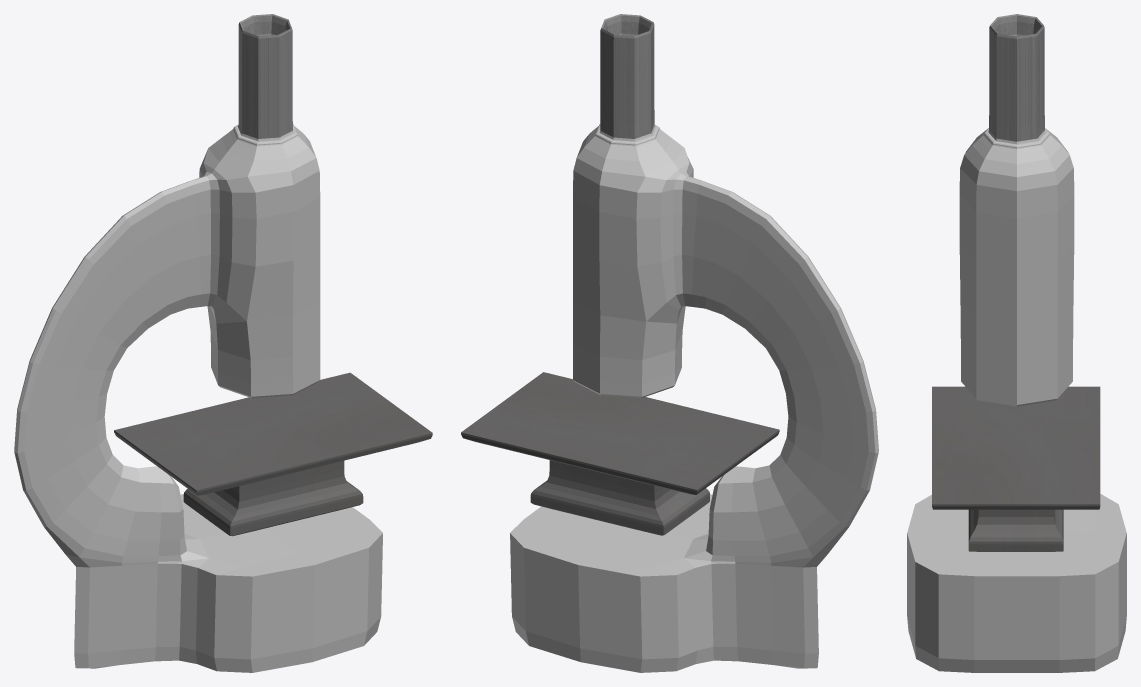
Rendered from microscope.fbx.
The picture shows the model from 3 angles, left to right: view 1: azimuth 30°, elevation 25°; view 2: azimuth 150°, elevation 25°; view 3: azimuth 270°, elevation 25°; orthographic projection. The views are drawn at different scales.
Visible parts, largest first — view 1: Cube, Cube.001, Cube.002; view 2: Cube, Cube.001, Cube.002; view 3: Cube, Cube.001, Cube.002.
Boxes of the visible parts, x1=… form: Cube: x1=14, y1=124, x2=382, y2=672; Cube.001: x1=114, y1=372, x2=432, y2=536; Cube.002: x1=238, y1=14, x2=292, y2=138; Cube: x1=510, y1=124, x2=878, y2=672; Cube.001: x1=461, y1=372, x2=779, y2=535; Cube.002: x1=600, y1=14, x2=654, y2=138; Cube: x1=907, y1=128, x2=1126, y2=672; Cube.001: x1=932, y1=386, x2=1100, y2=551; Cube.002: x1=989, y1=14, x2=1044, y2=141.
Size of the model in its own units: 726 by 1103 by 359.
Materials: 3 (2 with a texture image).
